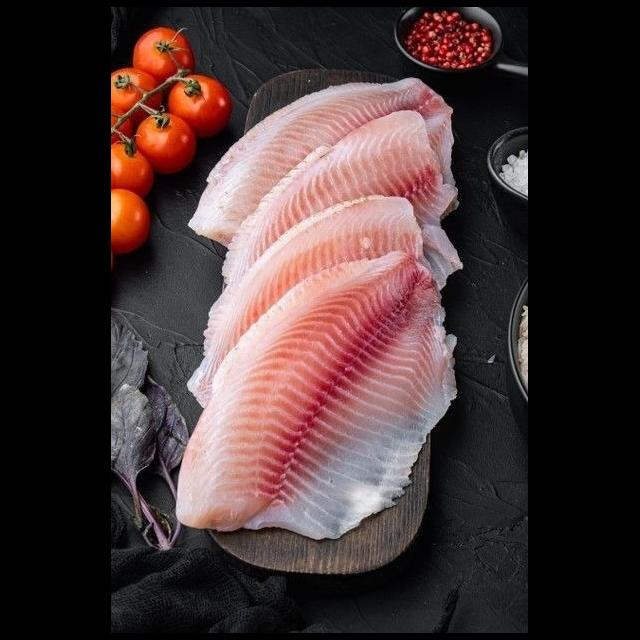fish: (162, 246, 469, 556)
